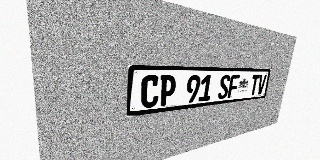1: (198, 75, 213, 102)
9: (185, 75, 201, 103)
C: (140, 75, 160, 109)
F: (227, 75, 240, 98)
P: (158, 75, 177, 106)
S: (217, 75, 231, 99)
T: (249, 75, 260, 96)
V: (256, 75, 267, 95)
